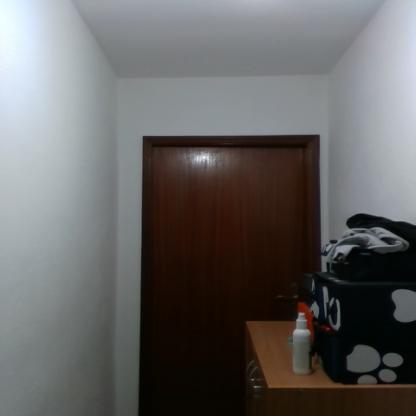door: (146, 144, 319, 415)
lever: (274, 294, 300, 301)
